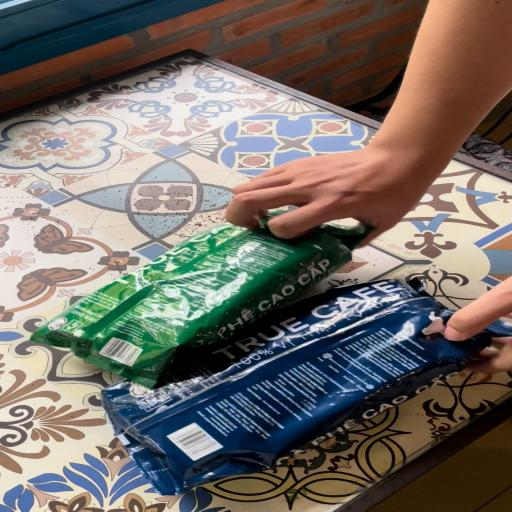cafe_hat: (102, 276, 512, 494)
cafe_xay: (31, 220, 370, 388)
